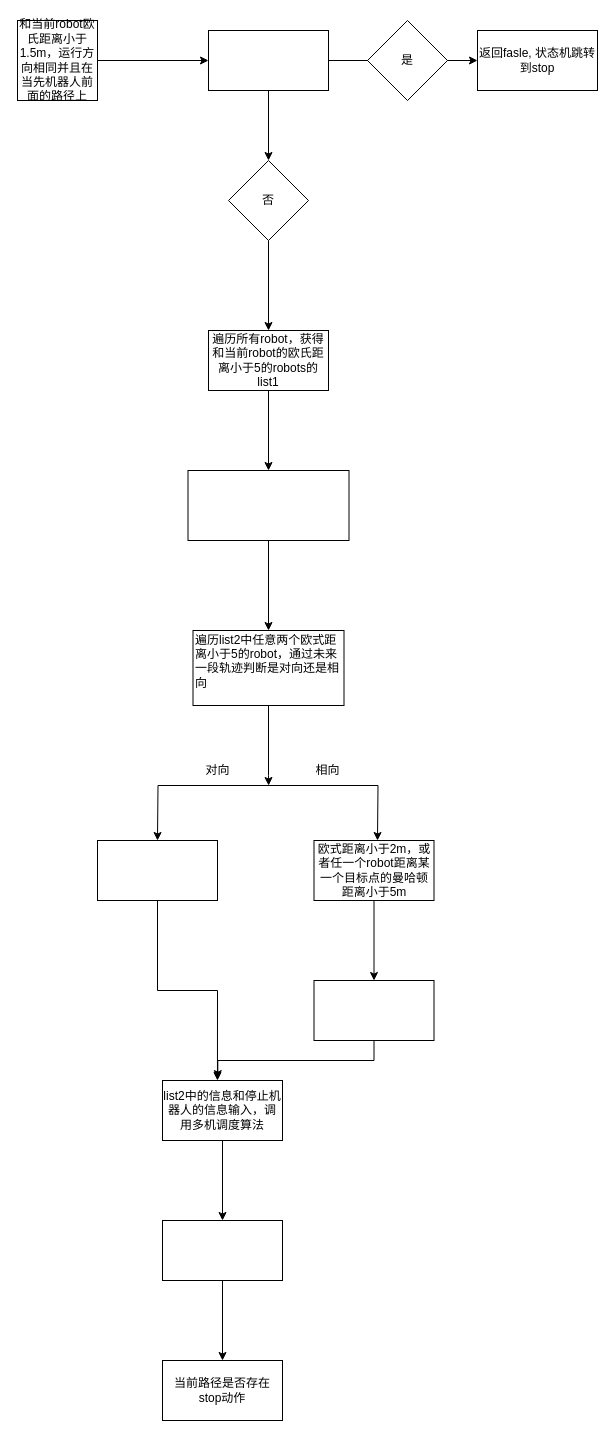
The diagram is 615 pixels wide and 1438 high, and some of its shapes have lost their labels. Each missing label, with the centre of its shape:
"function2" goes at point 268,60.
"判断存在冲突： AA'_m > AB'_m and BB'_m > BA'_m" goes at point 373,1010.
"曼哈顿距离小于5m" goes at point 157,870.
"获取当前机器人的路径" goes at point 222,1250.
"通过list1获取和list1中的任意一个robot欧式距离小于5m的robots，加上list1和当前robot，得到list2" goes at point 268,505.
